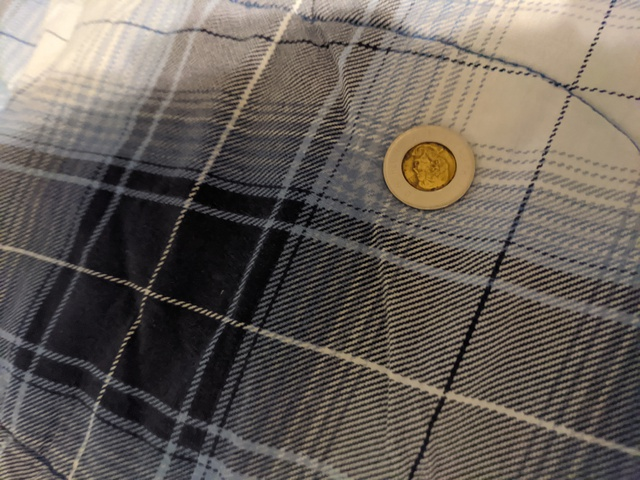twonie: (381, 114, 488, 217)
